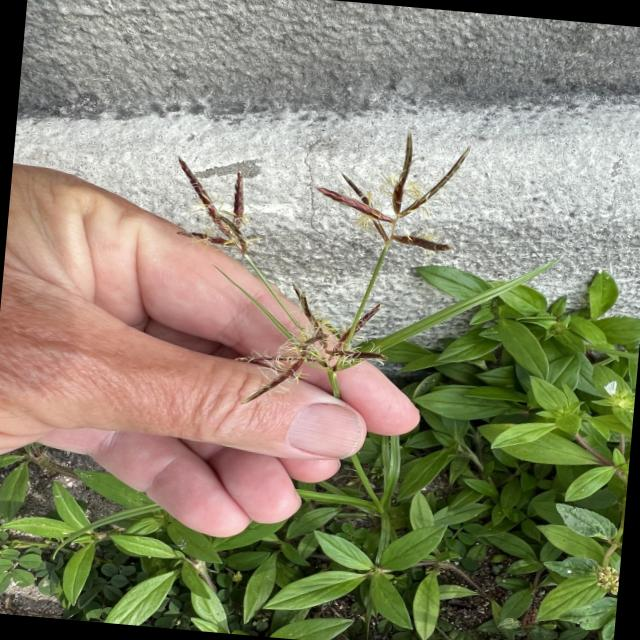cyperus: (144, 106, 493, 410)
